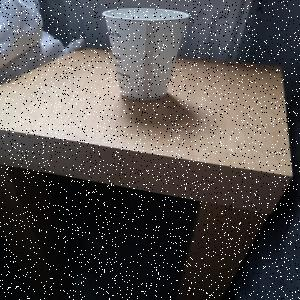Cup: (102, 8, 192, 104)
